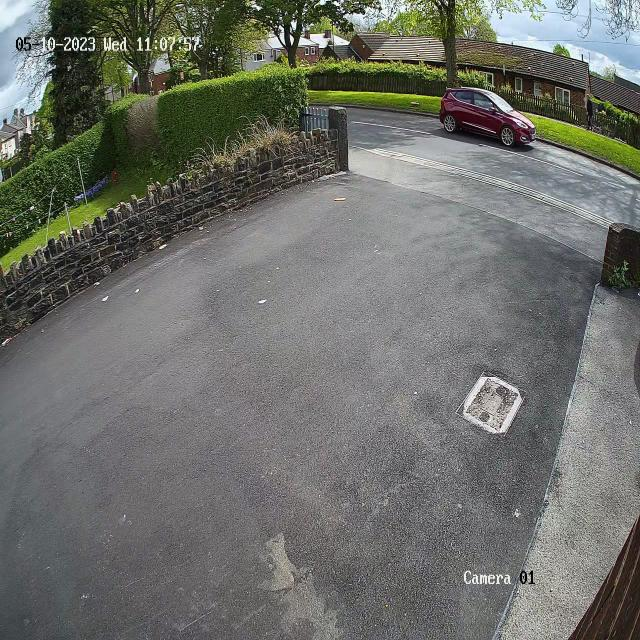vehicle: (432, 78, 547, 156)
